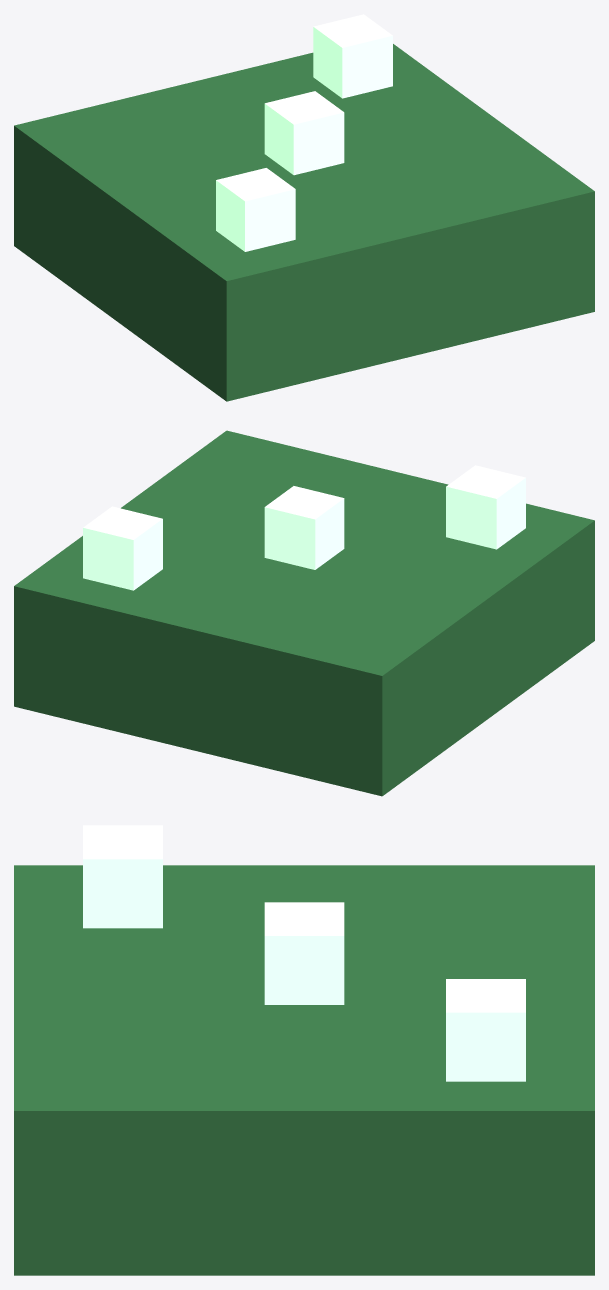
File: static.glb
3 views of the same model, one above another, from view 1: azimuth 30°, elevation 25°; view 2: azimuth 150°, elevation 25°; view 3: azimuth 270°, elevation 25° (orthographic). The views are drawn at different scales.
Parts seen in each view (by area): view 1: Cube, Cube.002, Cube.003, Cube.001; view 2: Cube, Cube.002, Cube.003, Cube.001; view 3: Cube, Cube.002, Cube.001, Cube.003.
Boxes of the visible parts, <box> form: Cube: <box>14,44,594,401</box>; Cube.002: <box>264,91,344,175</box>; Cube.003: <box>313,14,392,98</box>; Cube.001: <box>216,168,295,251</box>; Cube: <box>14,430,594,796</box>; Cube.002: <box>264,486,344,569</box>; Cube.003: <box>83,506,162,590</box>; Cube.001: <box>446,465,525,549</box>; Cube: <box>14,865,594,1275</box>; Cube.002: <box>264,902,344,1004</box>; Cube.001: <box>83,825,162,928</box>; Cube.003: <box>446,979,525,1081</box>.
Bounding box in the file's own units: 1.6 × 0.71 × 1.6.
